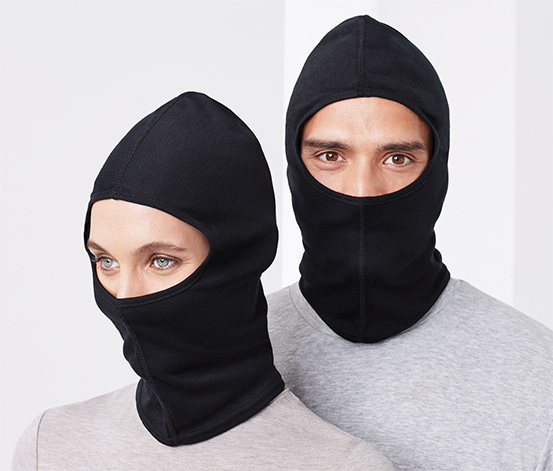maske: (91, 240, 269, 383), (281, 147, 451, 288)
